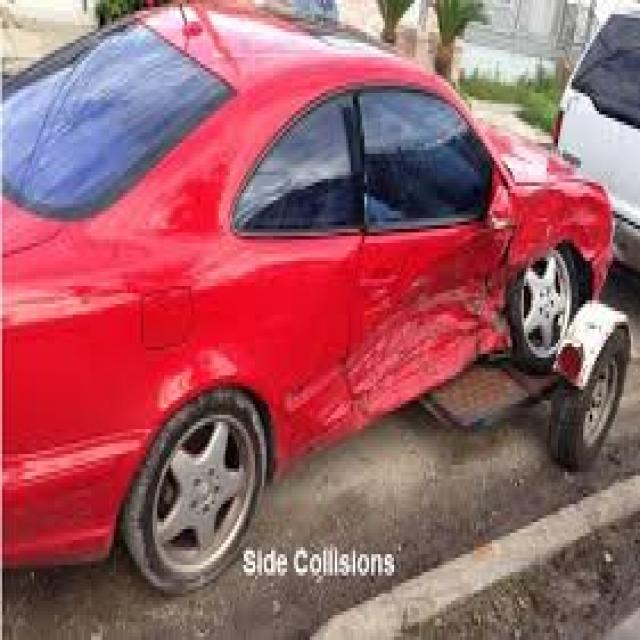minor: (339, 215, 622, 390)
